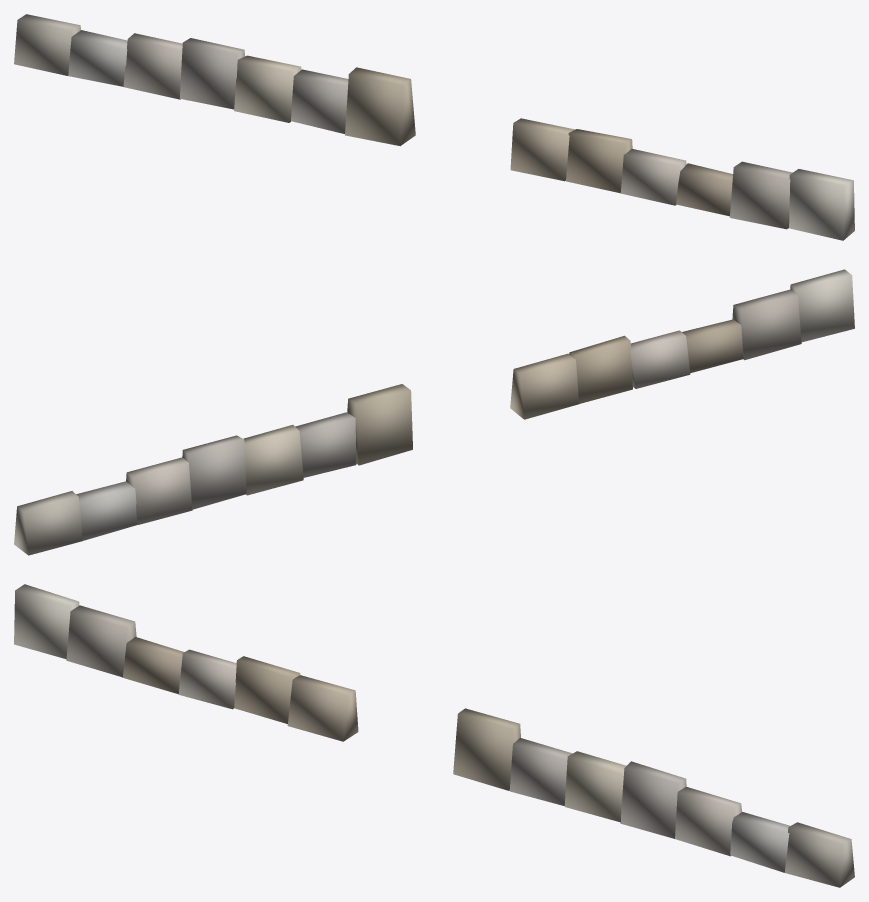
The model's file is farm_-27_-32_far.glb.
The picture shows the model from 3 angles, top to bottom: view 1: azimuth 90°, elevation 25°; view 2: azimuth 150°, elevation 25°; view 3: azimuth 270°, elevation 25°; orthographic projection. The views are drawn at different scales.
Parts seen in each view (by area): view 1: geometry_0; view 2: geometry_0; view 3: geometry_0.
Boxes of the visible parts, x1,y1,x2,y2 form: geometry_0: [14, 14, 854, 240]; geometry_0: [14, 269, 854, 555]; geometry_0: [14, 584, 854, 887].
Bounding box in the file's own units: 12.16 × 2.21 × 19.64.
